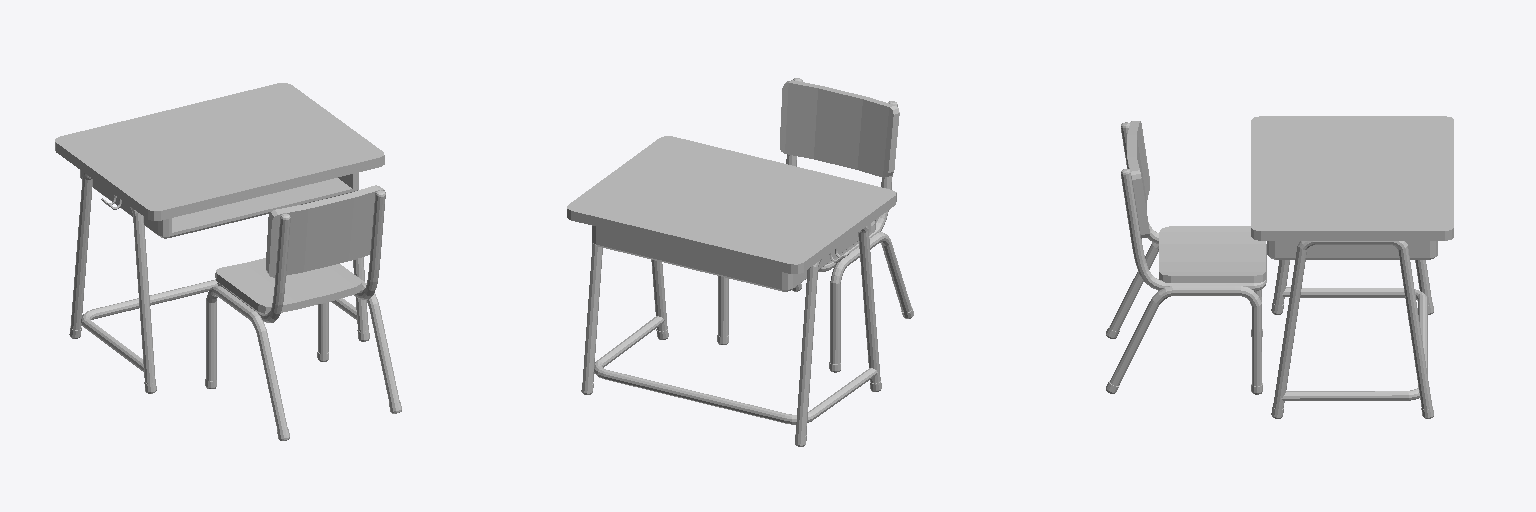
File: student-desk-chair.obj
The picture shows the model from 3 angles: view 1: azimuth 30°, elevation 25°; view 2: azimuth 150°, elevation 25°; view 3: azimuth 270°, elevation 25°; orthographic projection.
Visible parts, largest first — view 1: TopDeskTable_low, Back_low, ChairLegs_low, Seat_low, Base_low; view 2: TopDeskTable_low, Back_low, ChairLegs_low, Base_low; view 3: TopDeskTable_low, Seat_low, ChairLegs_low, Base_low, Back_low.
Boxes of the visible parts, x1=… form: TopDeskTable_low: x1=55, y1=83, x2=384, y2=393; Back_low: x1=266, y1=185, x2=385, y2=277; ChairLegs_low: x1=205, y1=264, x2=401, y2=440; Seat_low: x1=215, y1=258, x2=361, y2=313; Base_low: x1=217, y1=190, x2=385, y2=322; TopDeskTable_low: x1=567, y1=136, x2=896, y2=446; Back_low: x1=780, y1=80, x2=899, y2=177; ChairLegs_low: x1=717, y1=232, x2=913, y2=372; Base_low: x1=786, y1=78, x2=897, y2=271; TopDeskTable_low: x1=1251, y1=116, x2=1453, y2=418; Seat_low: x1=1159, y1=226, x2=1265, y2=282; ChairLegs_low: x1=1106, y1=242, x2=1262, y2=394; Base_low: x1=1121, y1=122, x2=1266, y2=291; Back_low: x1=1127, y1=121, x2=1149, y2=238.
Size of the model in its own units: 1.07 by 0.9555 by 1.37.